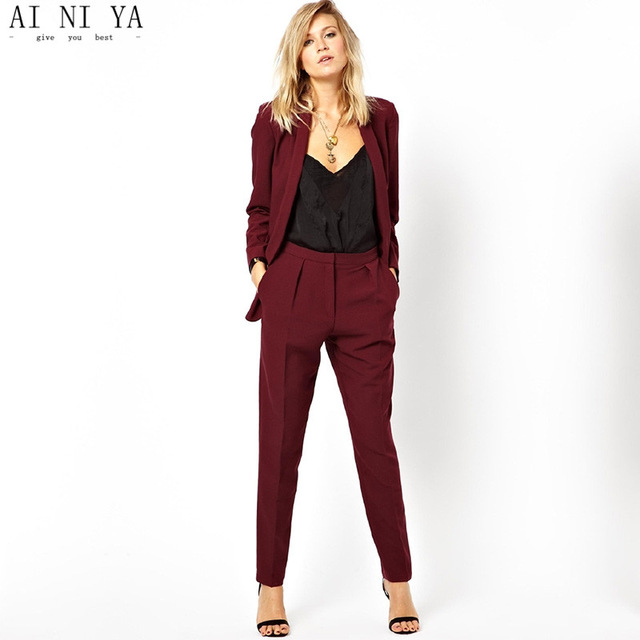feet: (235, 524, 432, 640)
